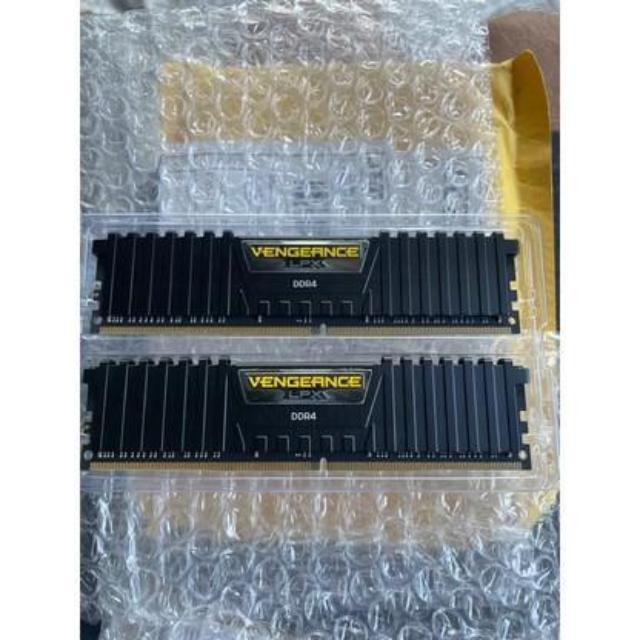RAM: (83, 357, 543, 475), (88, 224, 523, 342)
